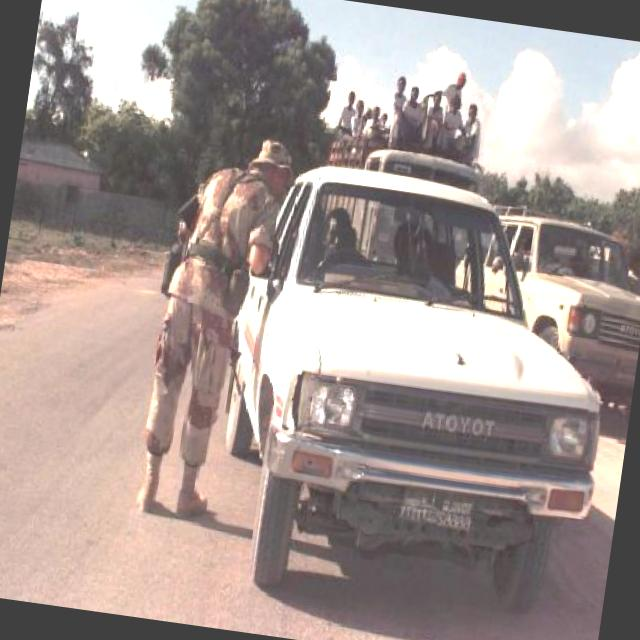Person: (127, 126, 278, 544), (339, 52, 491, 158), (316, 200, 360, 270)
